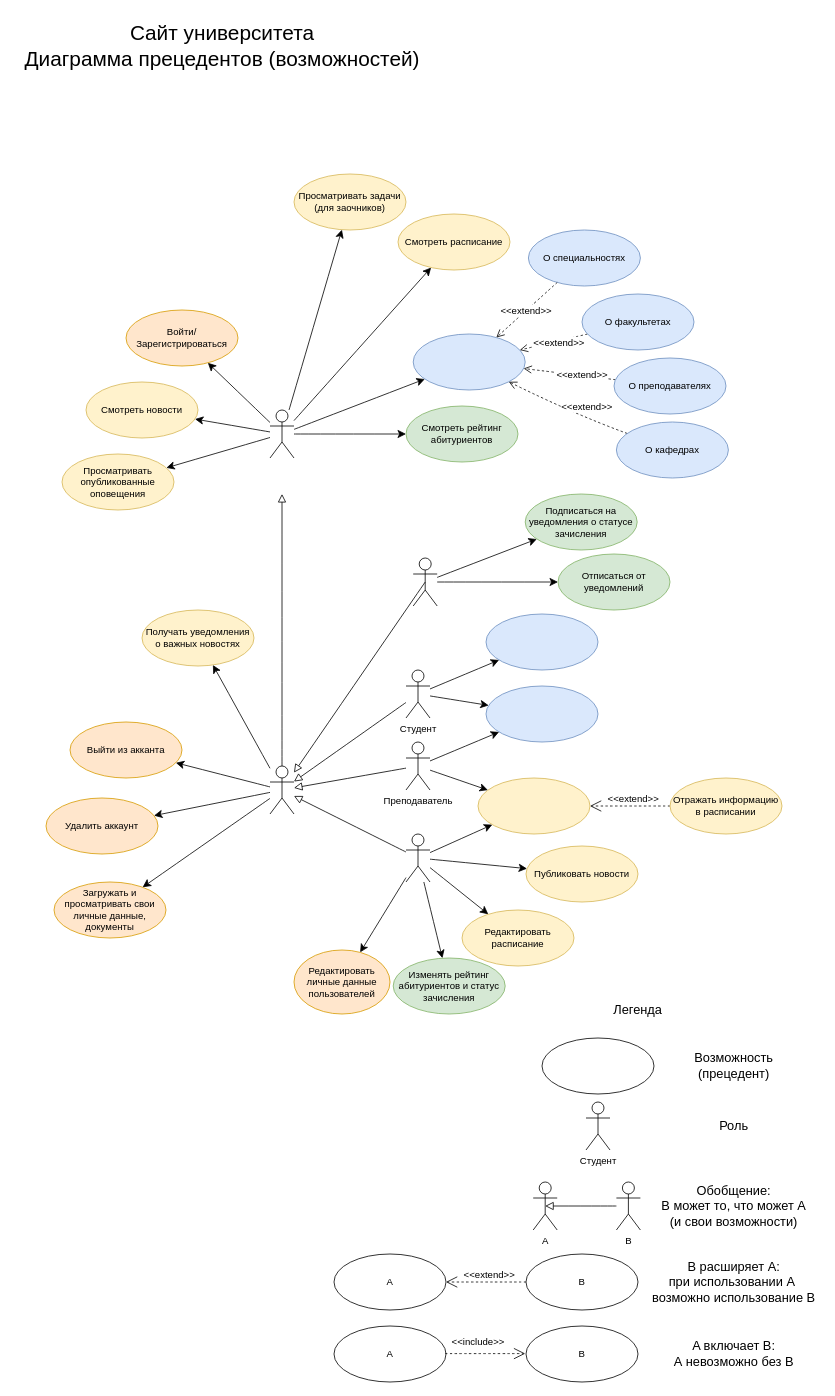
Image size: 835x1396. Some labels were removed from this diagram. The centre of each missing label's shape, as x and y in pixels:
"XXX" goes at [597,1065].
"Абитуриент" goes at [424,581].
"Администратор" goes at [417,857].
"Зарегистрированный пользователь" goes at [281,789].
"Незарегистрированный пользователь" goes at [281,433].
"Получить ссылку на свое расписание" goes at [541,713].
"Получить ссылку на чат группы" goes at [541,641].
"Публиковать оповещения" goes at [533,805].
"Смотреть информацию об универистете" goes at [468,361].
